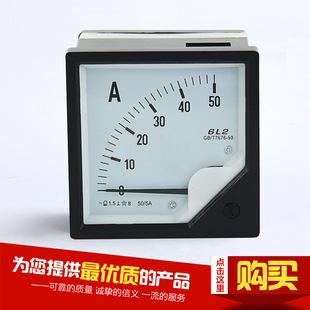pointer: (78, 63, 245, 225)
